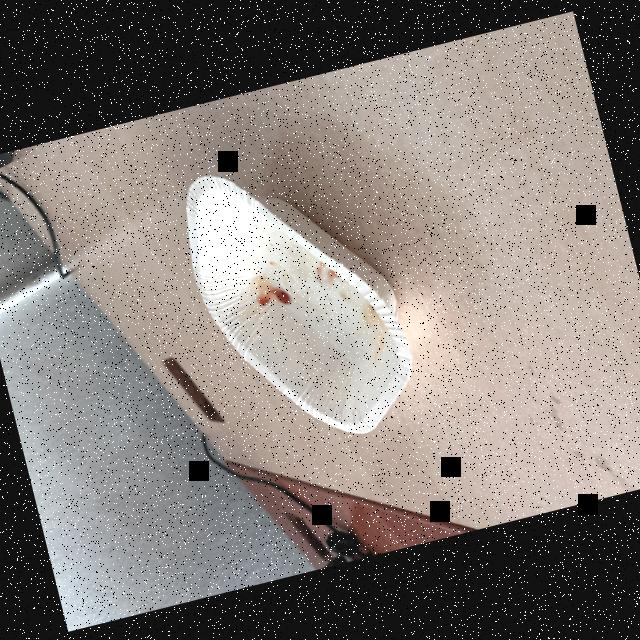cardboard_bowl: (161, 117, 445, 476)
